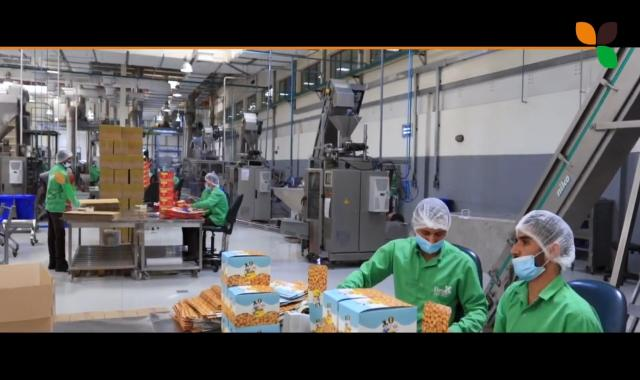hairnet: (513, 210, 574, 278), (413, 196, 451, 245), (54, 146, 72, 168), (202, 170, 219, 188)
